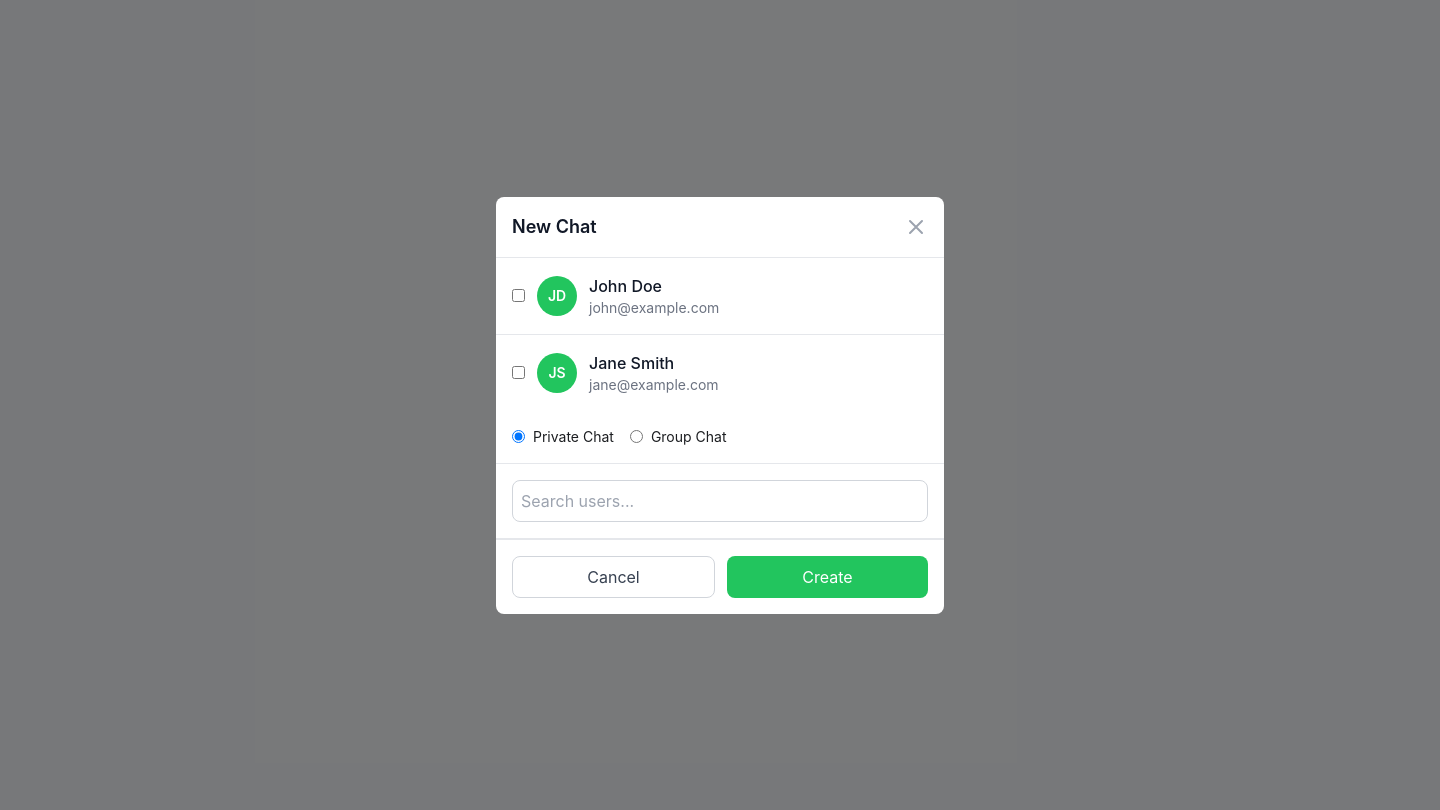
Test: NewChatModal › TDD: Form Submission › should handle creation errors
The image size is (1440, 810).
Click the checkbox named "John Doe" at x=518, y=296, box [512,289,525,302]
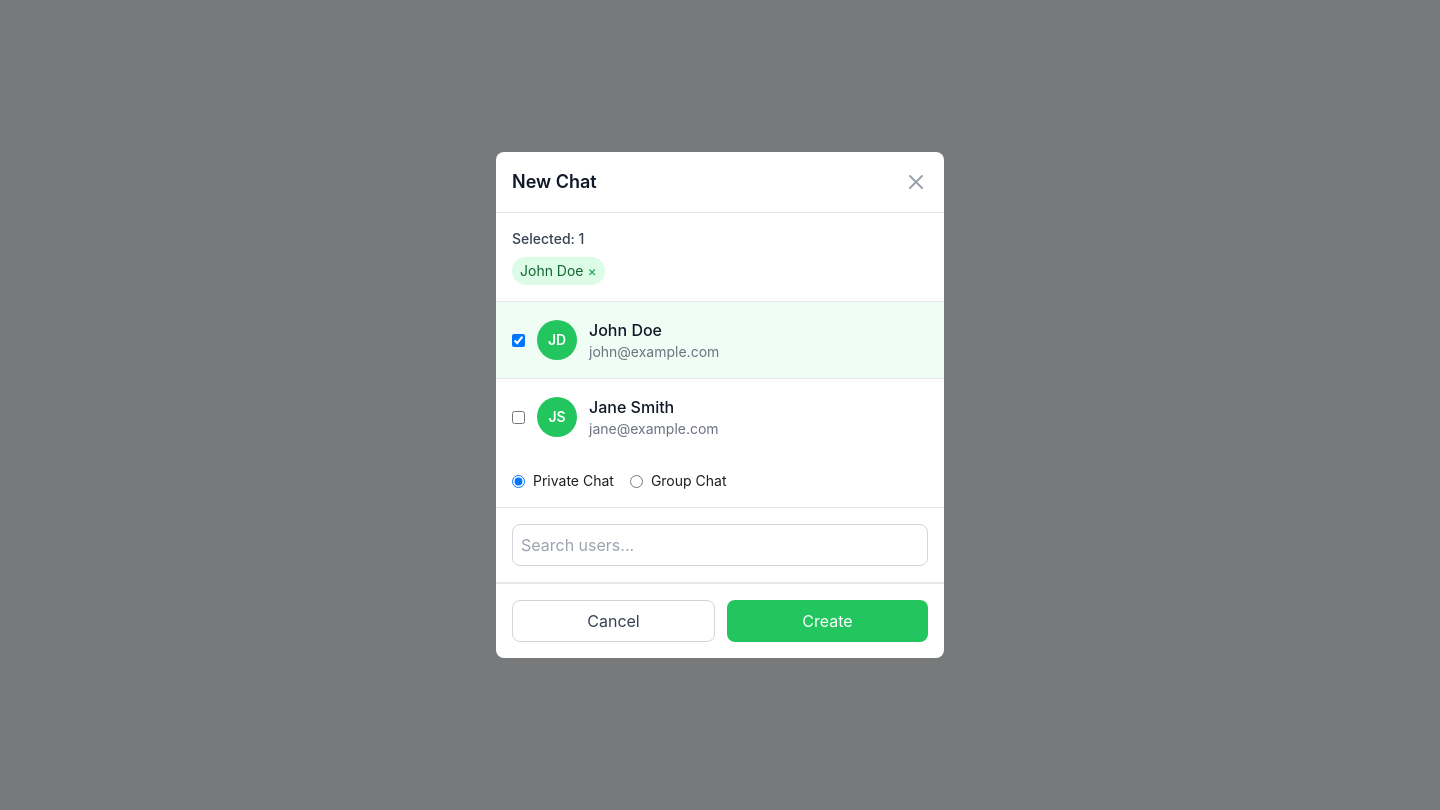
Click the button "Create" at x=828, y=621, box [727,600,928,642]
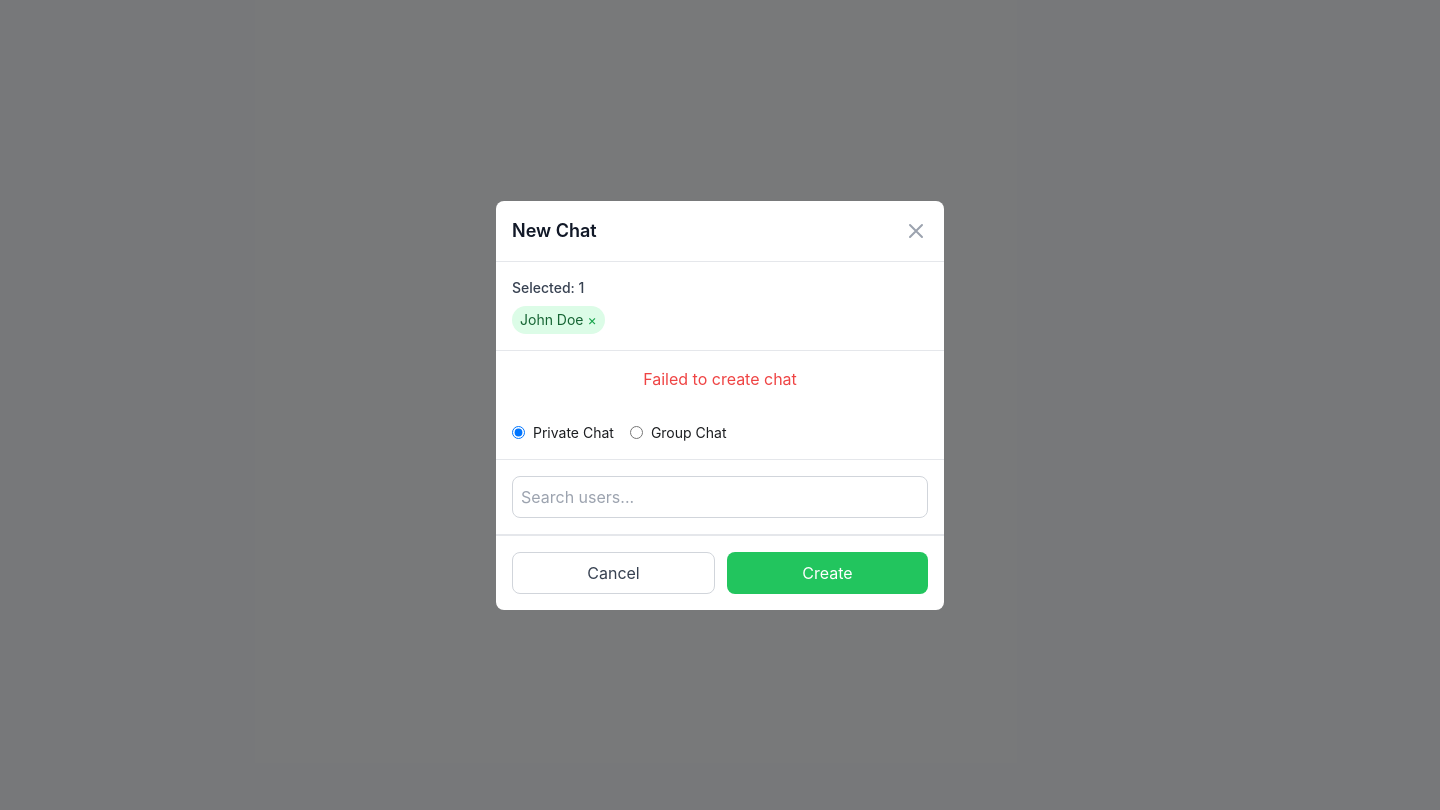
Expected: the text "Failed to create chat" is shown, [643,368,797,388]
